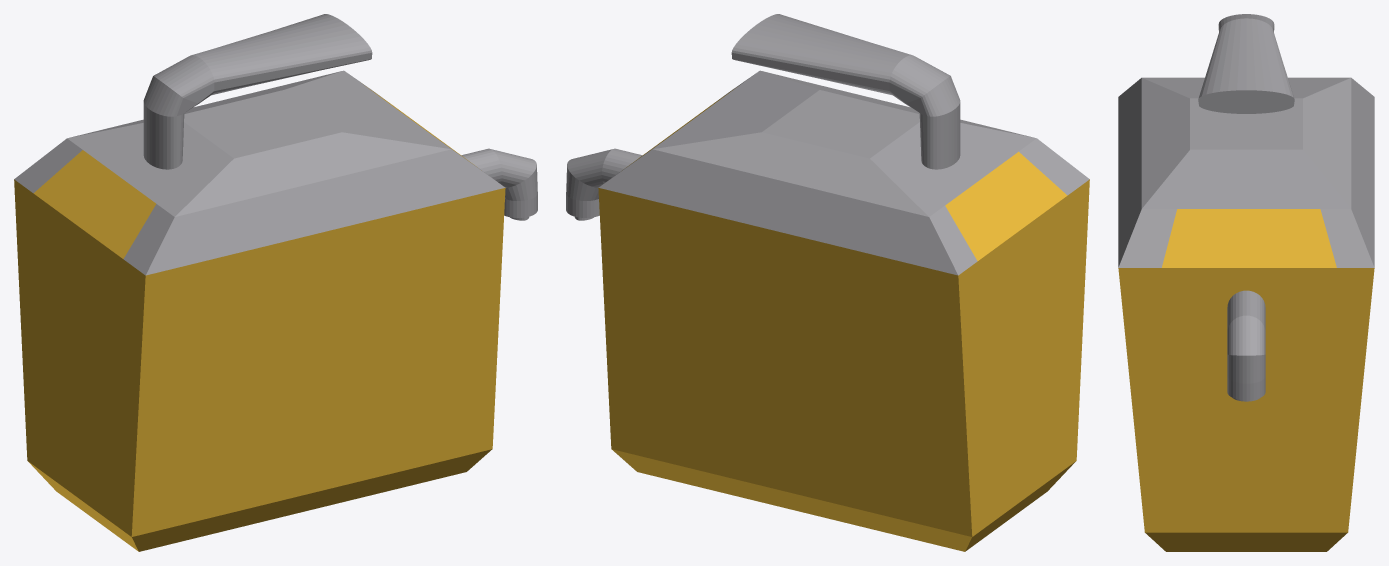
File: Mustard.fbx
The picture shows the model from 3 angles, left to right: view 1: azimuth 30°, elevation 25°; view 2: azimuth 150°, elevation 25°; view 3: azimuth 270°, elevation 25°; orthographic projection. The views are drawn at different scales.
Visible parts, largest first — view 1: Cube, Cylinder, Cylinder.002; view 2: Cube, Cylinder, Cylinder.002; view 3: Cube, Cylinder, Cylinder.002.
Part boxes in pixels (x1,y1,x2,y2): Cube: (14, 70, 505, 551); Cylinder: (143, 14, 372, 169); Cylinder.002: (461, 148, 537, 220); Cube: (598, 70, 1089, 551); Cylinder: (731, 14, 960, 169); Cylinder.002: (566, 148, 642, 220); Cube: (1118, 77, 1374, 551); Cylinder: (1198, 14, 1294, 113); Cylinder.002: (1227, 290, 1265, 401).
Bounding box in the file's own units: 153 × 141 × 76.59.
